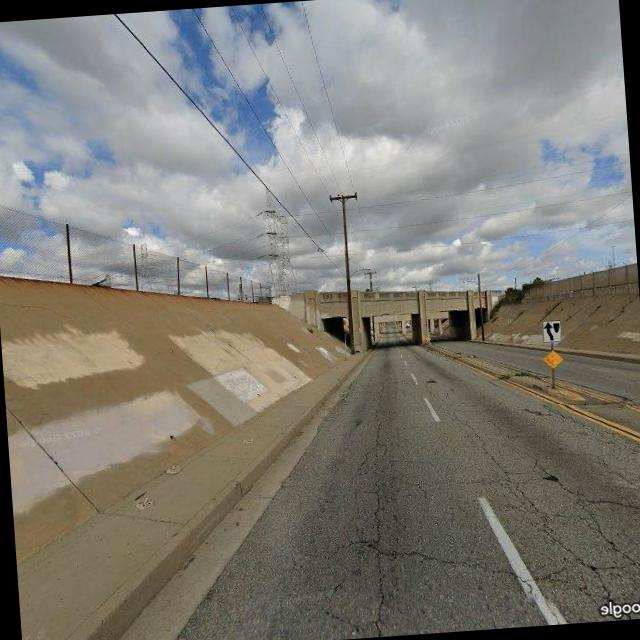crack: (316, 388, 640, 637)
